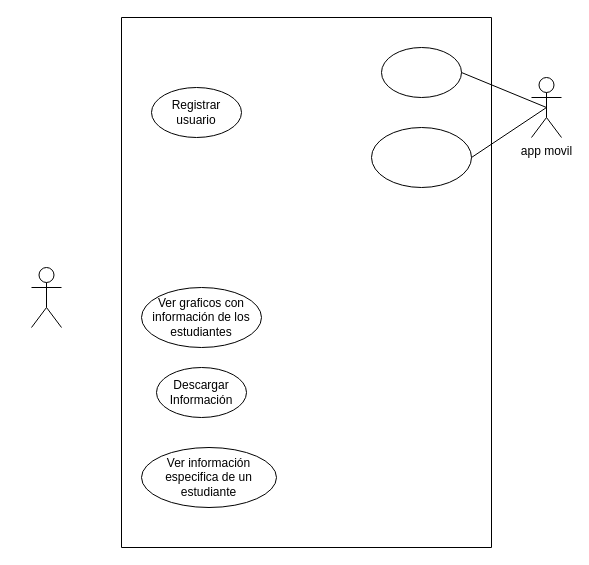
Some shapes in this 589 by 565 pixel diagram are drawn without their labels. Each missing label, with the centre of its shape:
"Enviar resultados de estudiantes" goes at (x=421, y=157).
"funcionario" goes at (x=46, y=297).
"Registrar estudiantes" goes at (x=421, y=72).
